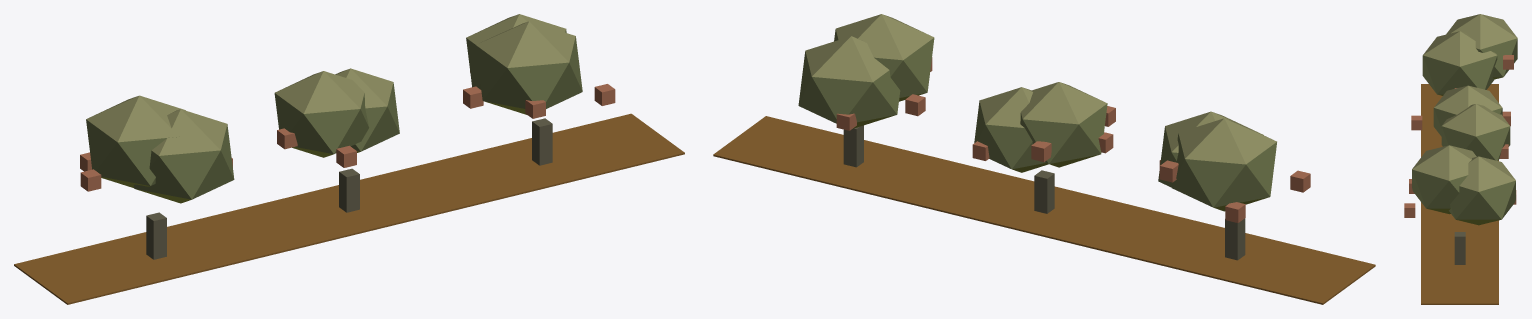
File: SM_Naranjos_v3_HileraAdulta_LOD1.fbx
3 renders of one model, left to right at view 1: azimuth 30°, elevation 25°; view 2: azimuth 150°, elevation 25°; view 3: azimuth 270°, elevation 25°, orthographic. The views are drawn at different scales.
Parts seen in each view (by area): view 1: SM_viveres_nules_v3_LOD1; view 2: SM_viveres_nules_v3_LOD1; view 3: SM_viveres_nules_v3_LOD1.
Part boxes in pixels (bbox=[...]): SM_viveres_nules_v3_LOD1: bbox=[14, 14, 684, 304]; SM_viveres_nules_v3_LOD1: bbox=[713, 14, 1375, 304]; SM_viveres_nules_v3_LOD1: bbox=[1404, 14, 1517, 304].
Size of the model in its own units: 16 by 3.77 by 3.49.
